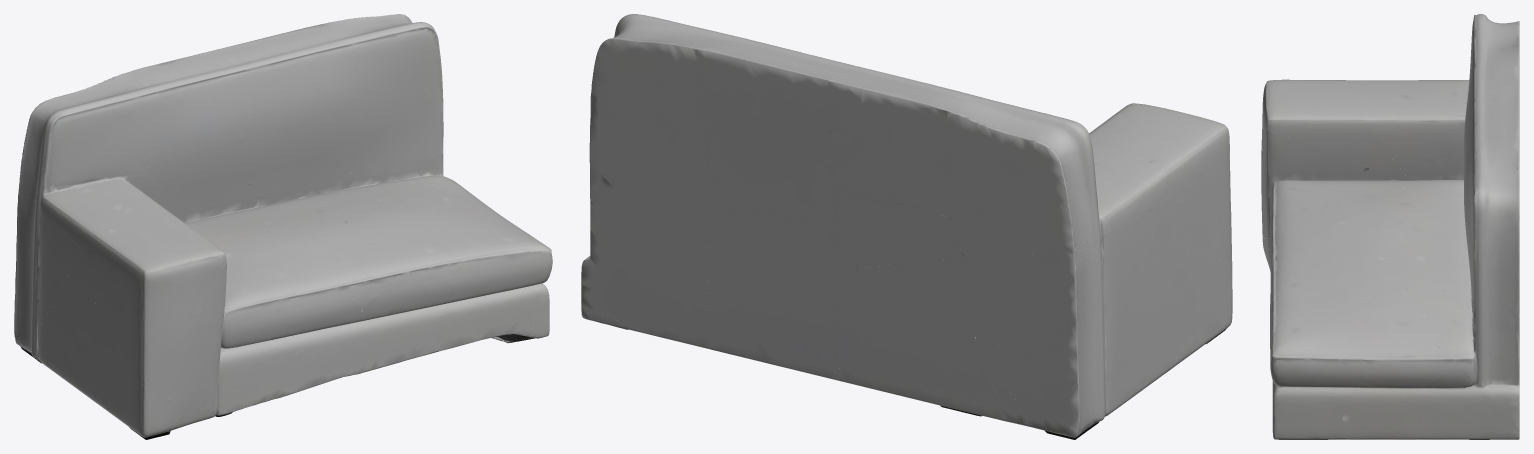
File: gen_sofa_tripo.web.glb
The picture shows the model from 3 angles, left to right: view 1: azimuth 30°, elevation 25°; view 2: azimuth 150°, elevation 25°; view 3: azimuth 270°, elevation 25°; orthographic projection. The views are drawn at different scales.
Visible parts, largest first — view 1: tripo_node_b6955e04-4715-4574-9262-749d34225f29; view 2: tripo_node_b6955e04-4715-4574-9262-749d34225f29; view 3: tripo_node_b6955e04-4715-4574-9262-749d34225f29.
Boxes of the visible parts, x1,y1,x2,y2 form: tripo_node_b6955e04-4715-4574-9262-749d34225f29: [14, 14, 552, 439]; tripo_node_b6955e04-4715-4574-9262-749d34225f29: [581, 14, 1232, 439]; tripo_node_b6955e04-4715-4574-9262-749d34225f29: [1261, 14, 1519, 439].
Size of the model in its own units: 1.57 by 0.8999 by 0.8505.
1 material, 1 textured.
